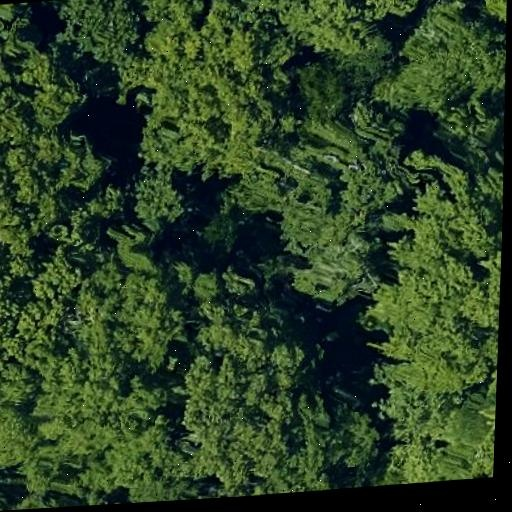tree-top: (133, 16, 303, 185), (170, 309, 323, 487), (368, 201, 503, 394), (52, 369, 181, 499), (398, 160, 505, 314), (280, 178, 389, 314), (384, 2, 506, 117), (0, 241, 100, 380), (0, 122, 108, 246), (91, 260, 194, 375), (396, 389, 496, 484), (274, 0, 374, 68), (56, 0, 146, 74), (20, 42, 97, 128), (289, 54, 363, 129), (428, 90, 506, 161), (125, 166, 195, 241), (0, 377, 48, 475), (134, 0, 212, 52), (354, 0, 441, 23), (0, 2, 41, 49), (469, 0, 508, 29), (0, 469, 25, 512)
